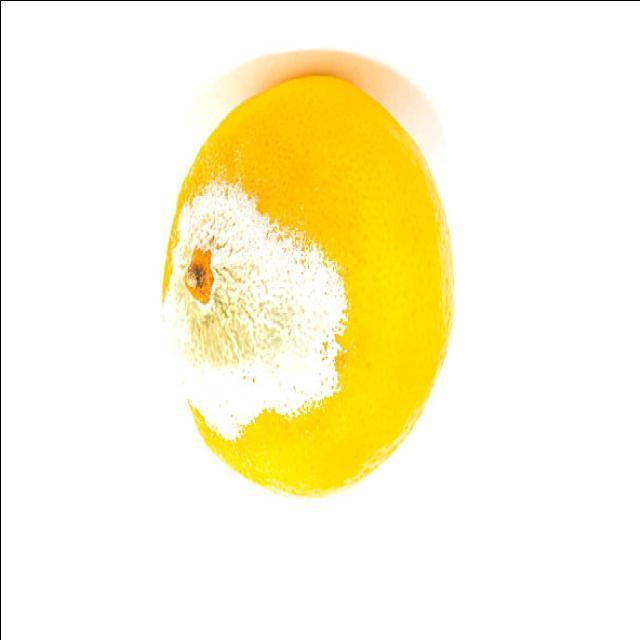Rotten: (160, 74, 457, 493)
